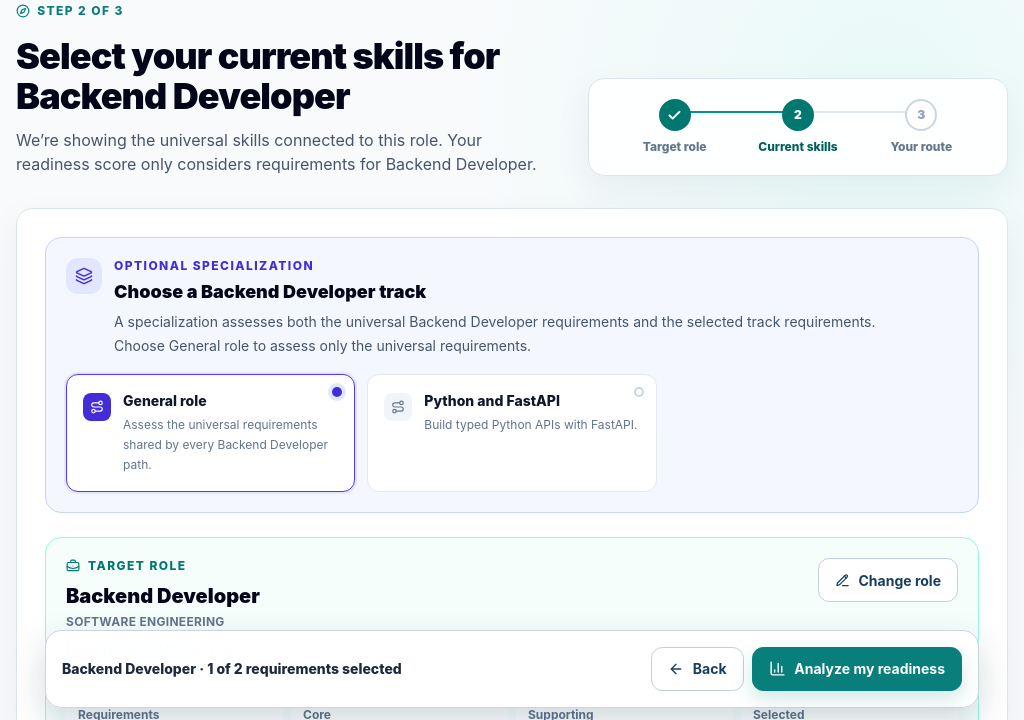
Test: Planner role navigation › clears an in-flight result when proficiency changes and sends the updated profile
The width and height of the screenshot is (1024, 720).
Click the button "Analyze my readiness".
click(857, 669)  # box left=752, top=647, right=962, bottom=691
(page scrolled)
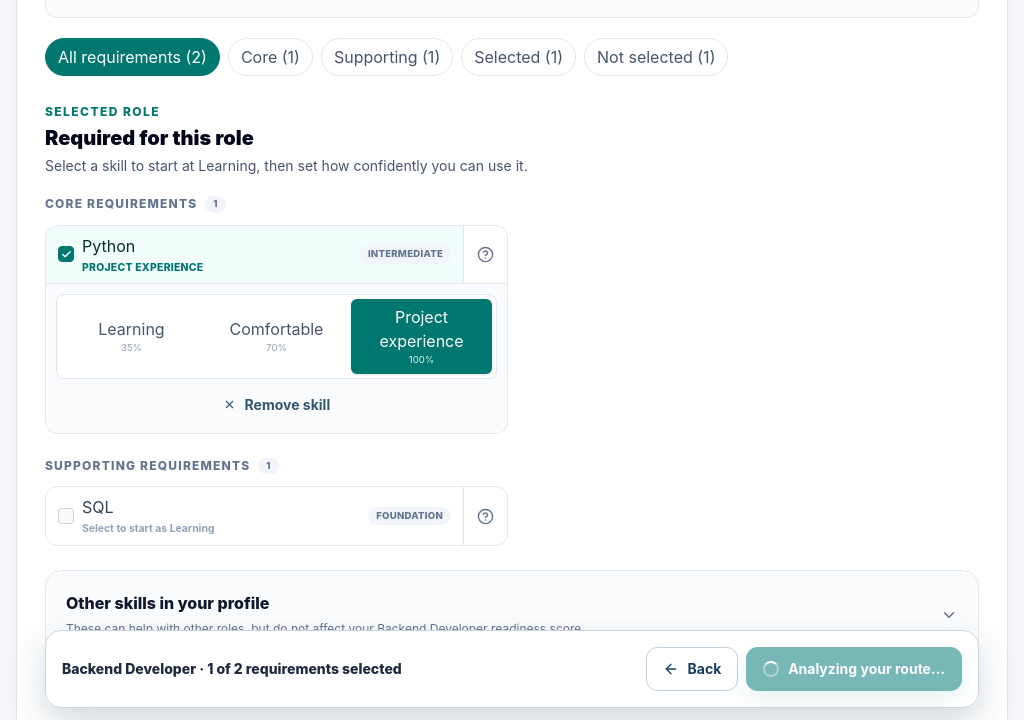
Now the button "Analyzing your route…" is disabled, box left=746, top=647, right=962, bottom=691
Click the button with aria-label "Comfortable proficiency for Python, 70% contribution factor".
click(276, 336)  # box left=206, top=299, right=347, bottom=374
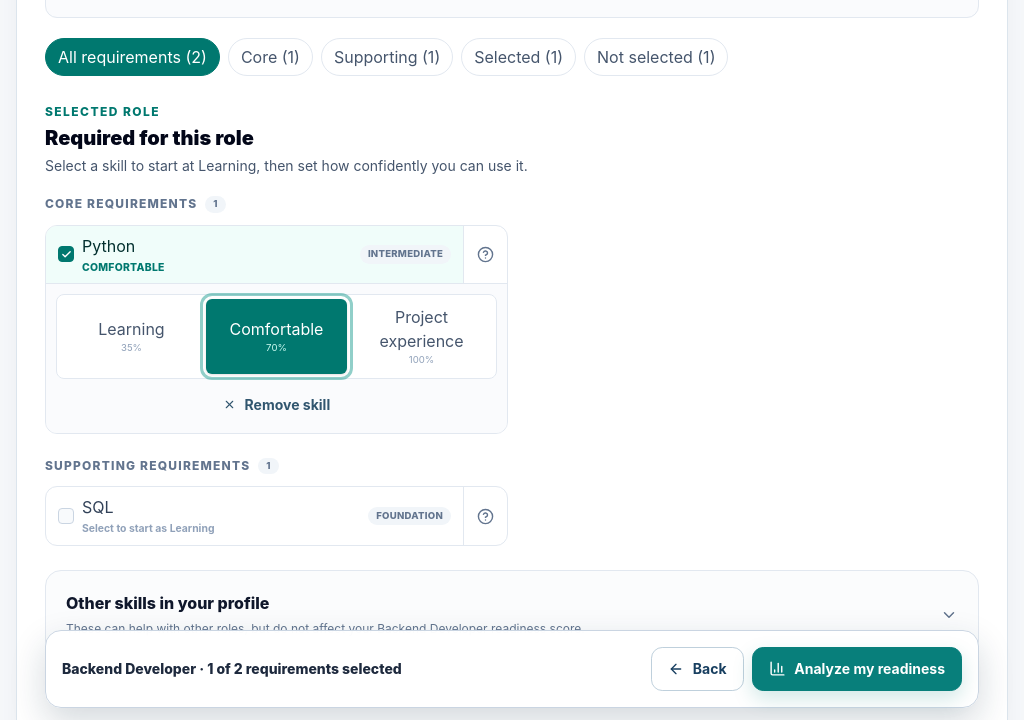
Now the button "Analyze my readiness" is enabled
Click the button "Analyze my readiness".
click(857, 669)  # box left=752, top=647, right=962, bottom=691
(page scrolled)
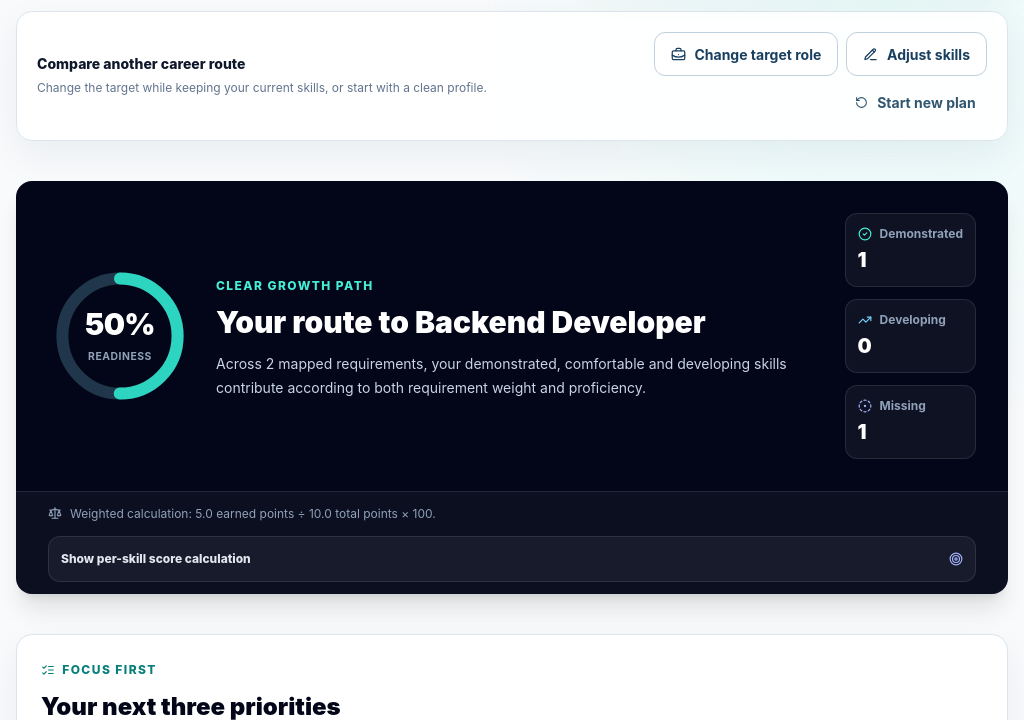
Now the picture named "50% weighted readiness" is shown, box left=48, top=264, right=192, bottom=408
